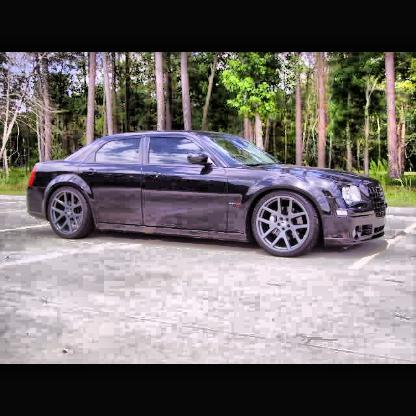Chrysler 300 SRT-8 2010: (16, 123, 399, 283)
